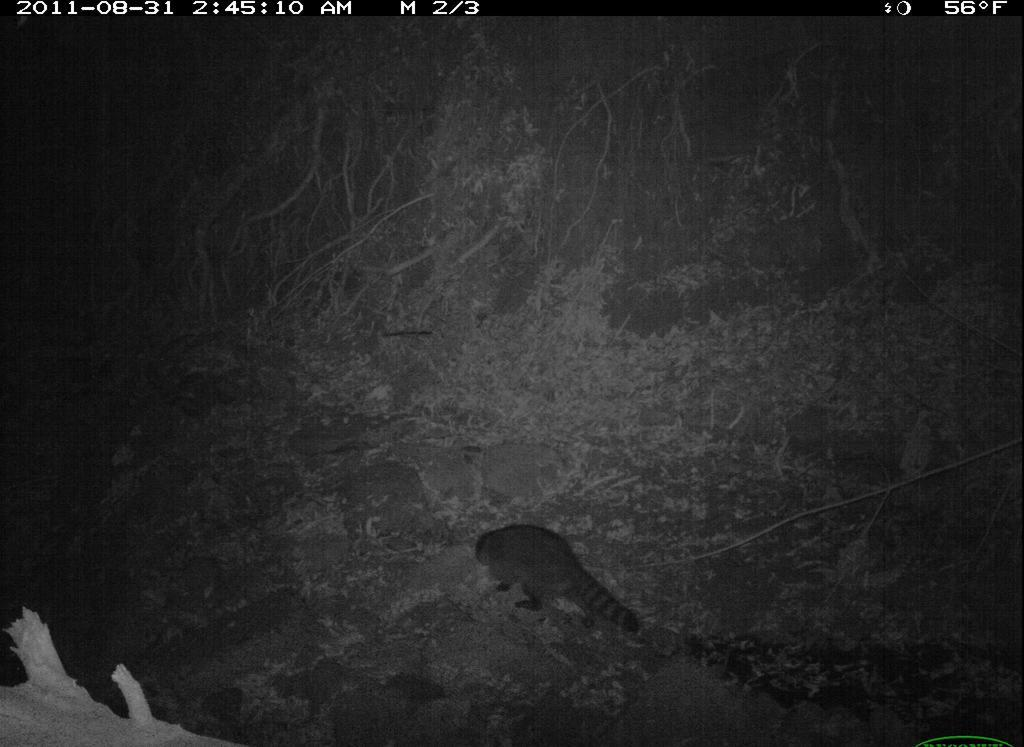raccoon: (459, 504, 703, 680)
